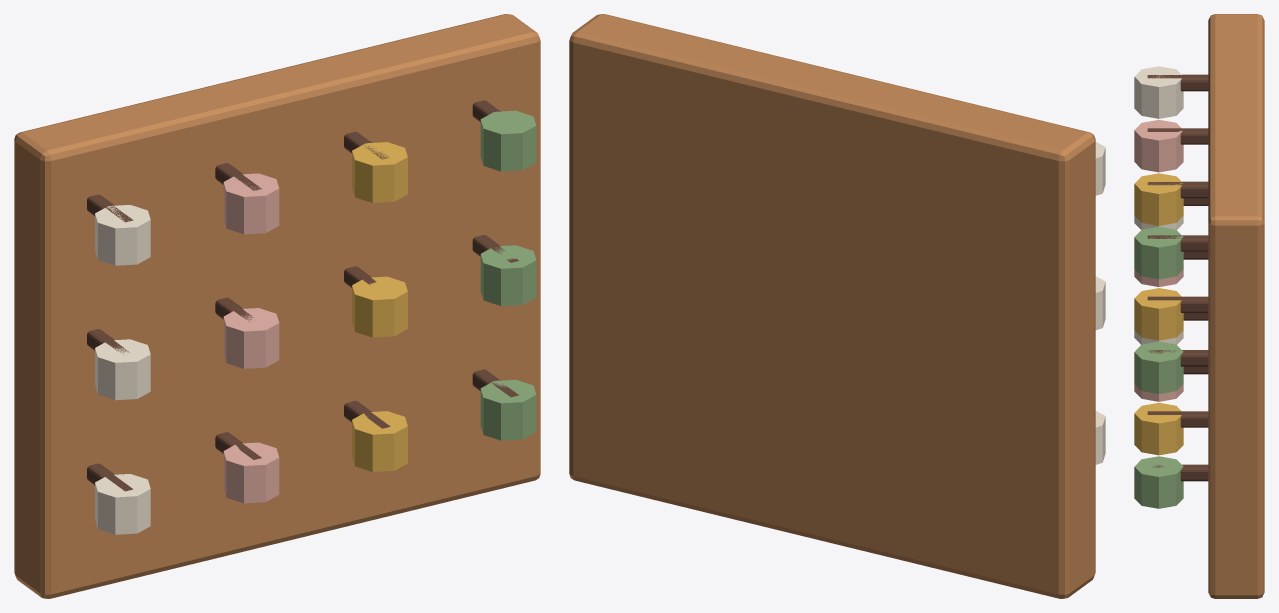
File: mug_rack.glb
3 renders of one model, left to right at view 1: azimuth 30°, elevation 25°; view 2: azimuth 150°, elevation 25°; view 3: azimuth 270°, elevation 25°, orthographic. The views are drawn at different scales.
Visible parts, largest first — view 1: mug_rack; view 2: mug_rack; view 3: mug_rack.
Part boxes in pixels (box(x1,y1,x2,y2)): mug_rack: box(14, 14, 540, 598); mug_rack: box(569, 14, 1105, 598); mug_rack: box(1134, 14, 1264, 598).
Bounding box in the file's own units: 0.7 × 0.6 × 0.185.
